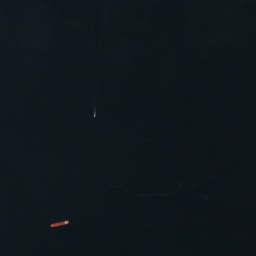Ship: (66, 221, 68, 223)
